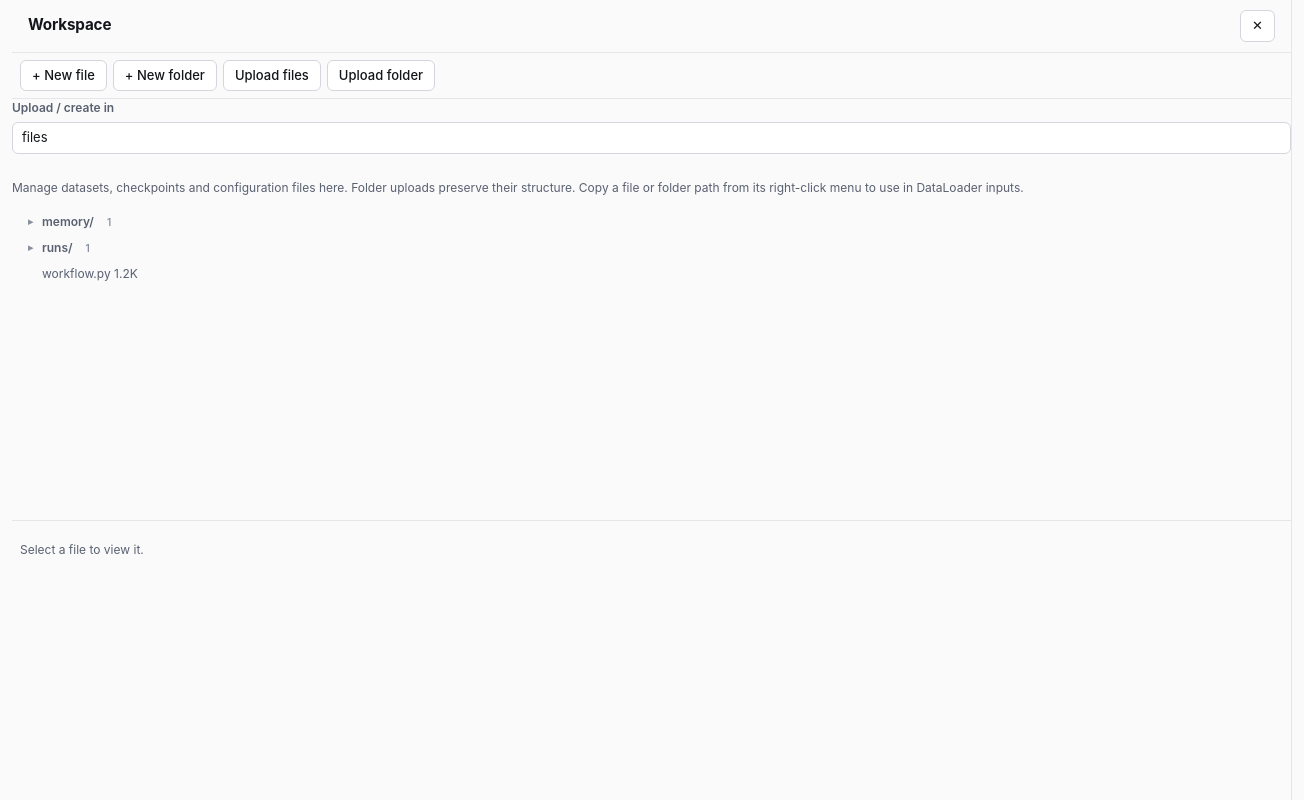
Test case: workspace right-click menu › names the thing it is about to act on
The image size is (1304, 800).
Click the button with class "ws-folder" showing "▸ runs/ 1".
click(61, 248)  # box [28, 240, 95, 256]
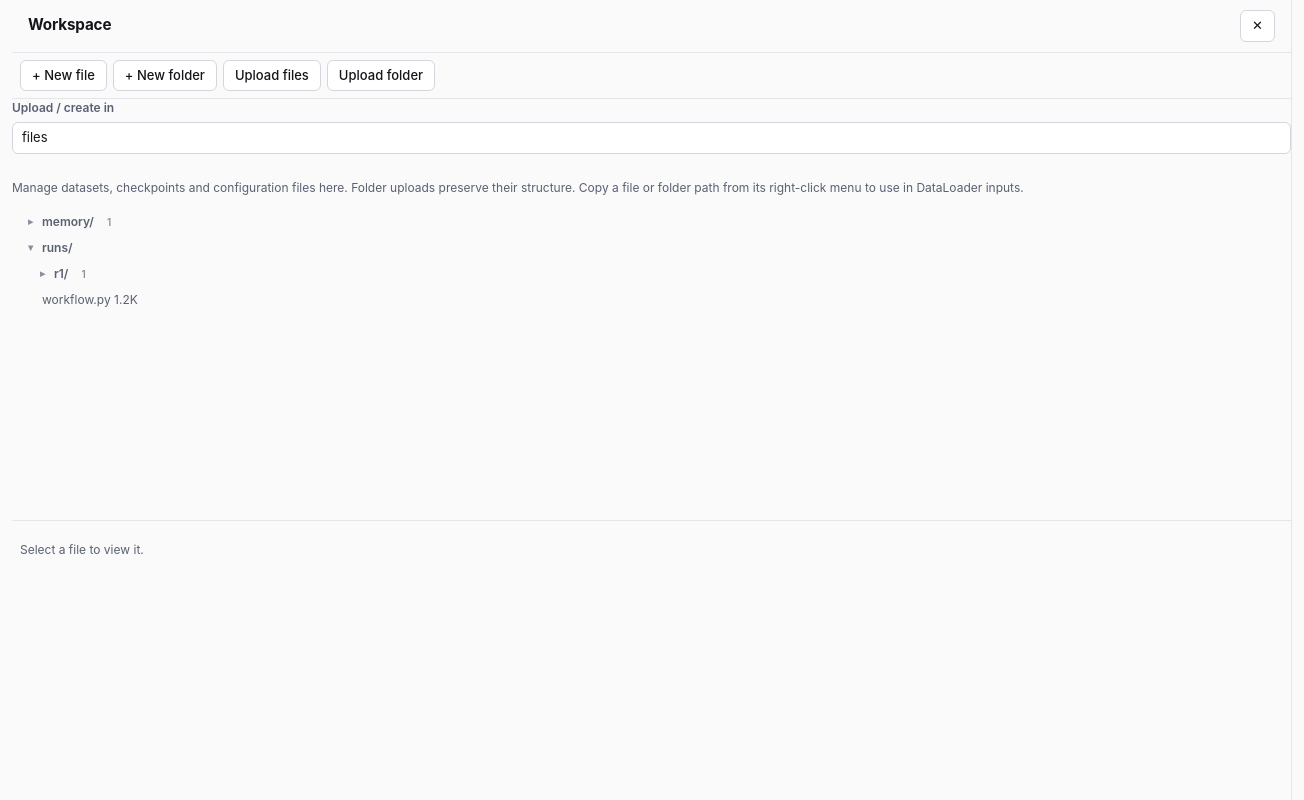
Right-click the button with class "ws-folder" showing "▸ r1/ 1".
right_click(65, 274)  # box [40, 266, 91, 282]
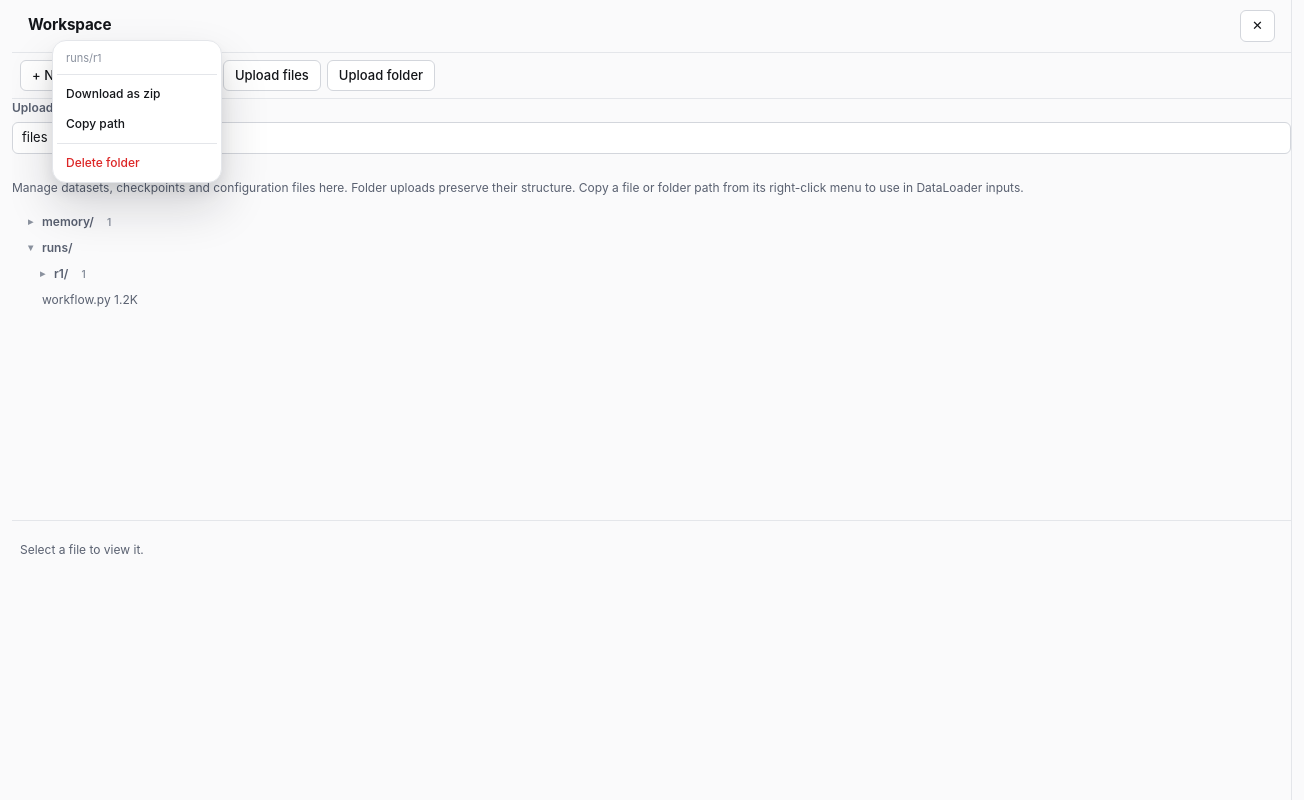
Expected: the text with class "ctx-path" reads "runs/r1", [66, 51, 102, 65]
